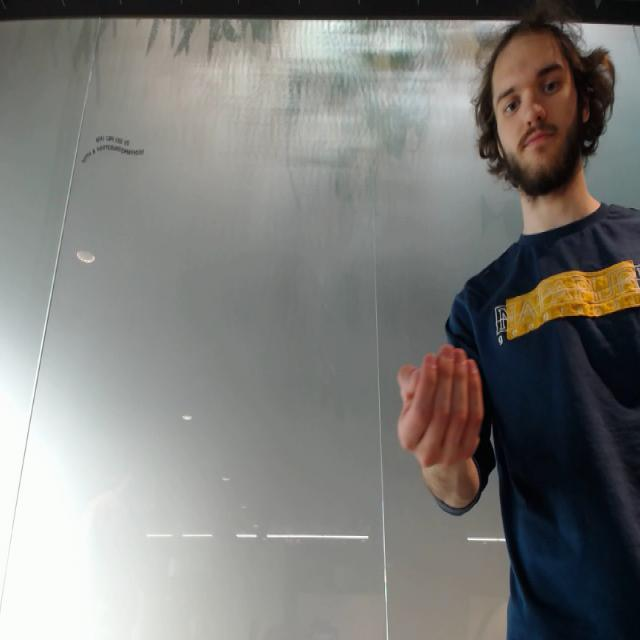forward: (393, 339, 490, 478)
